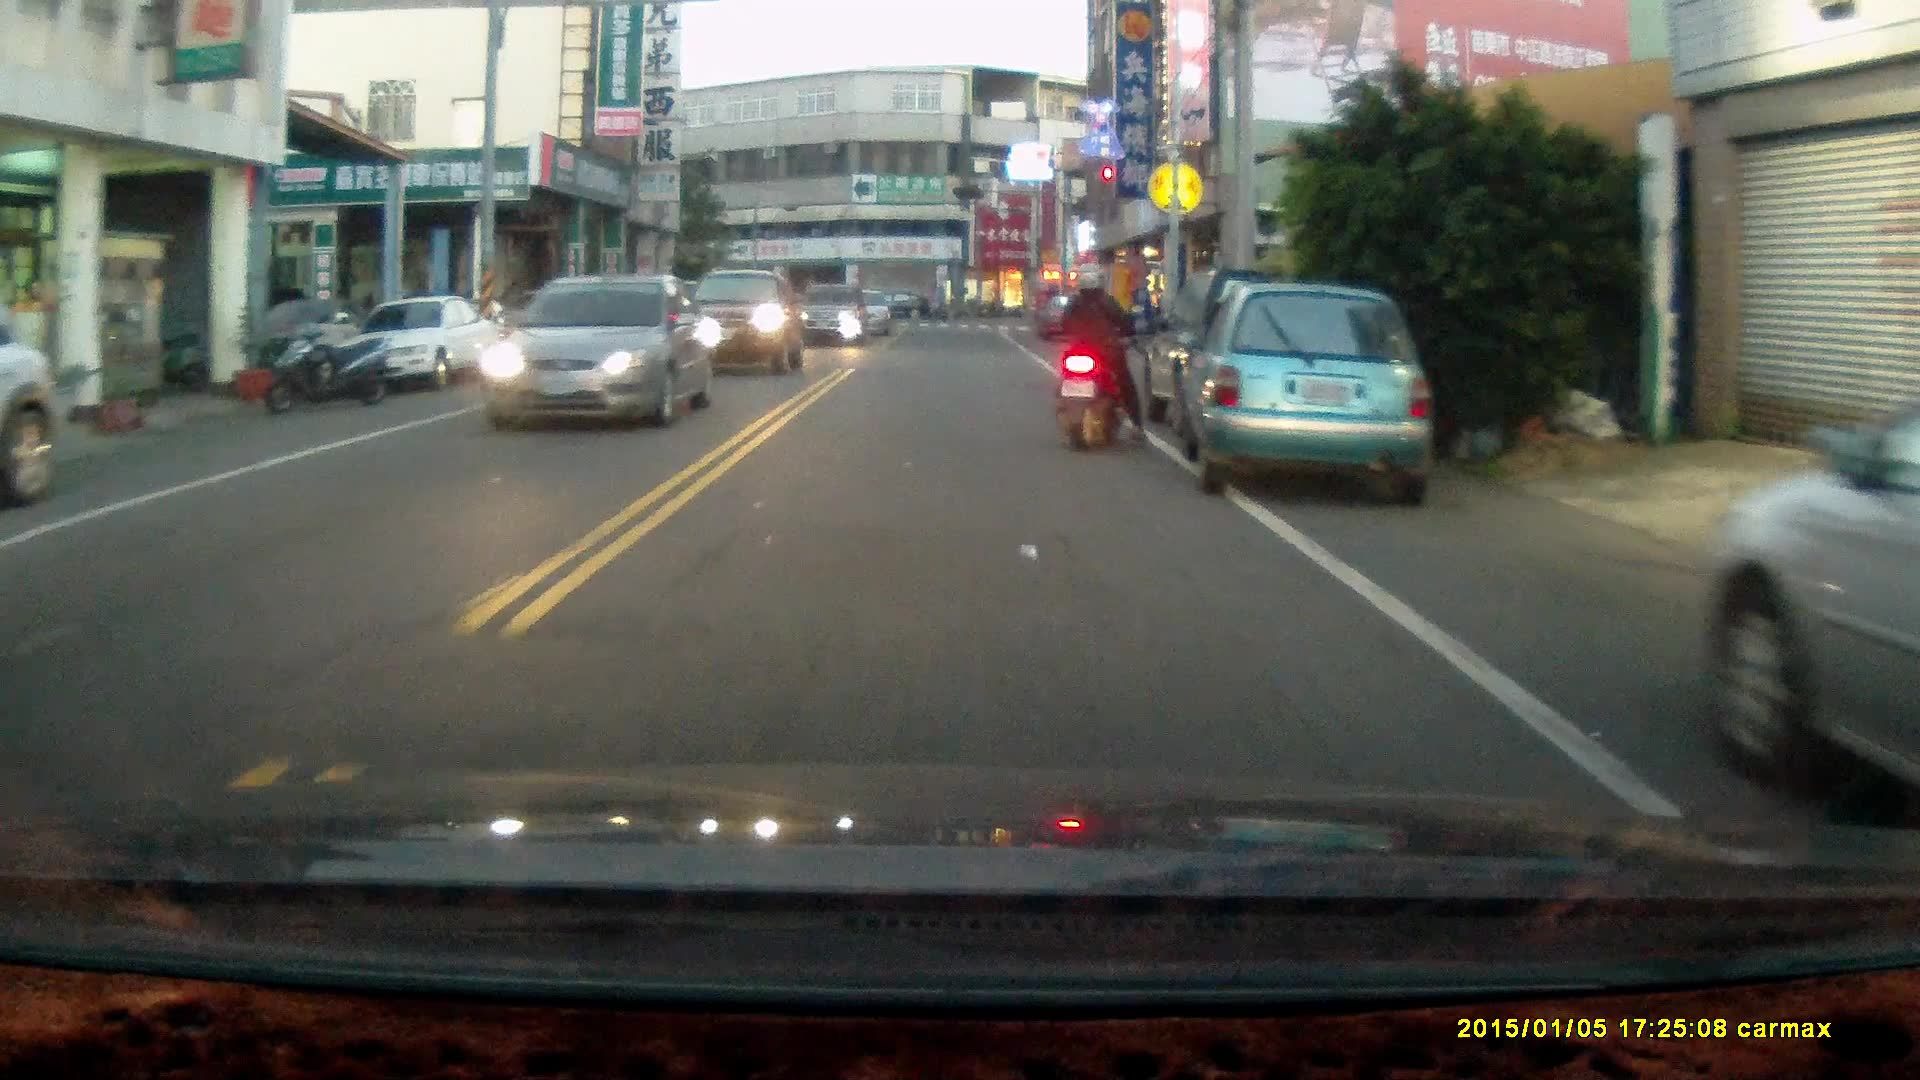rider: (1051, 264, 1149, 453)
vehicle: (1702, 384, 1920, 803), (1179, 282, 1443, 507), (483, 279, 717, 435), (335, 297, 513, 393), (678, 271, 814, 381)
